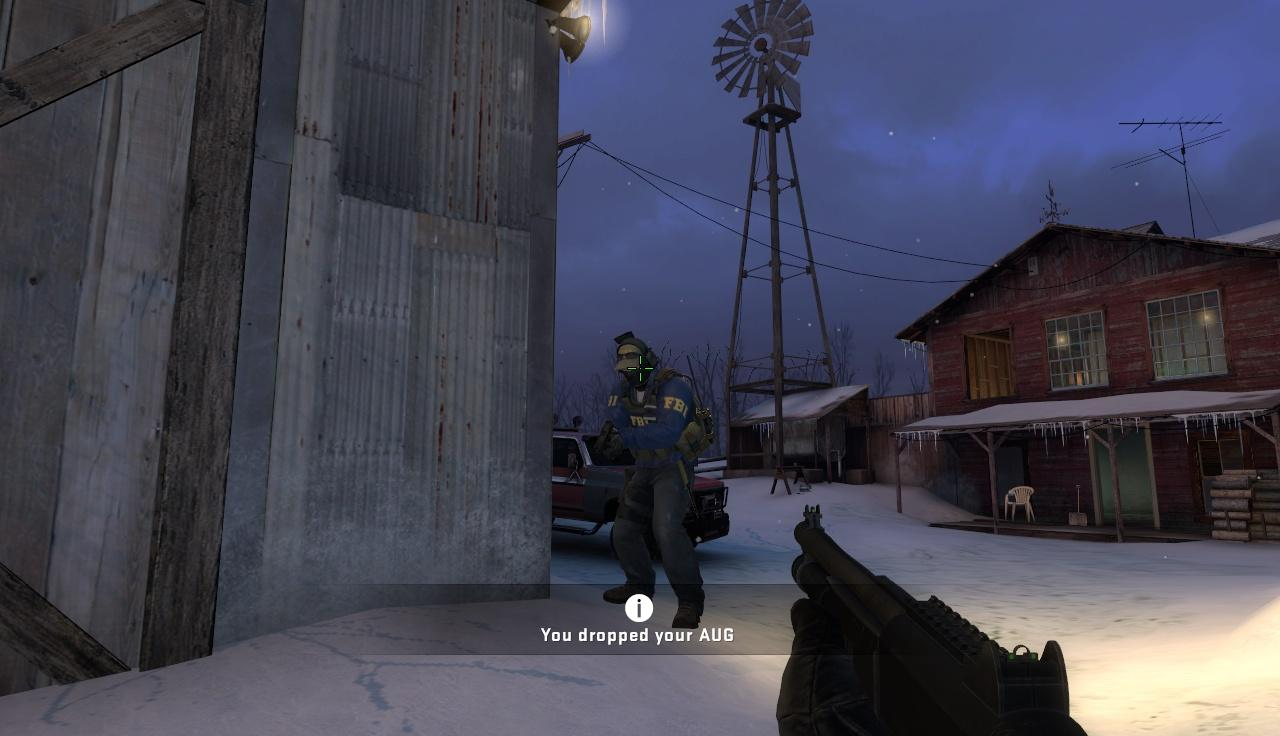ct: (613, 333, 703, 623)
cthead: (616, 336, 651, 385)
shotgun: (780, 508, 1082, 736)
